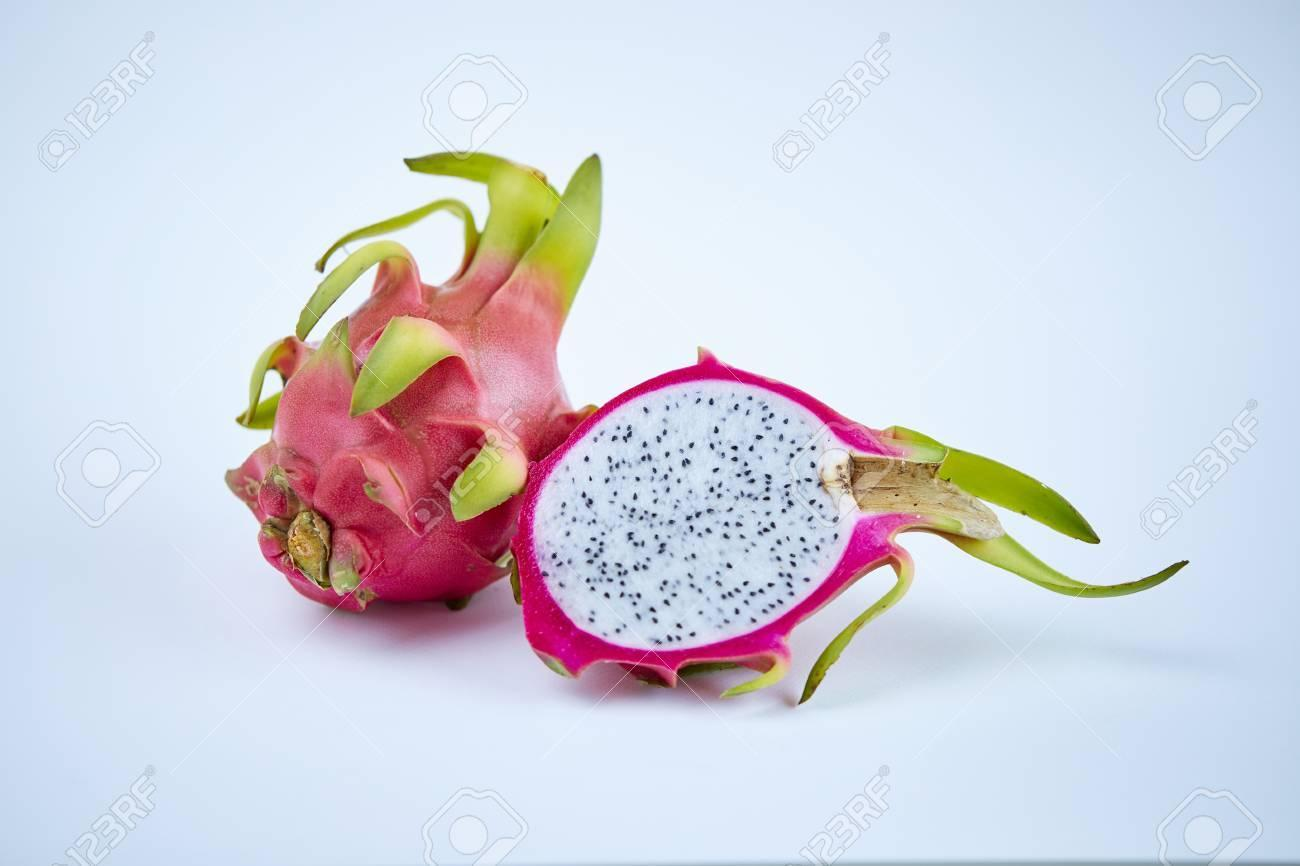dragon-fruit: (507, 357, 860, 672), (253, 282, 582, 617)
